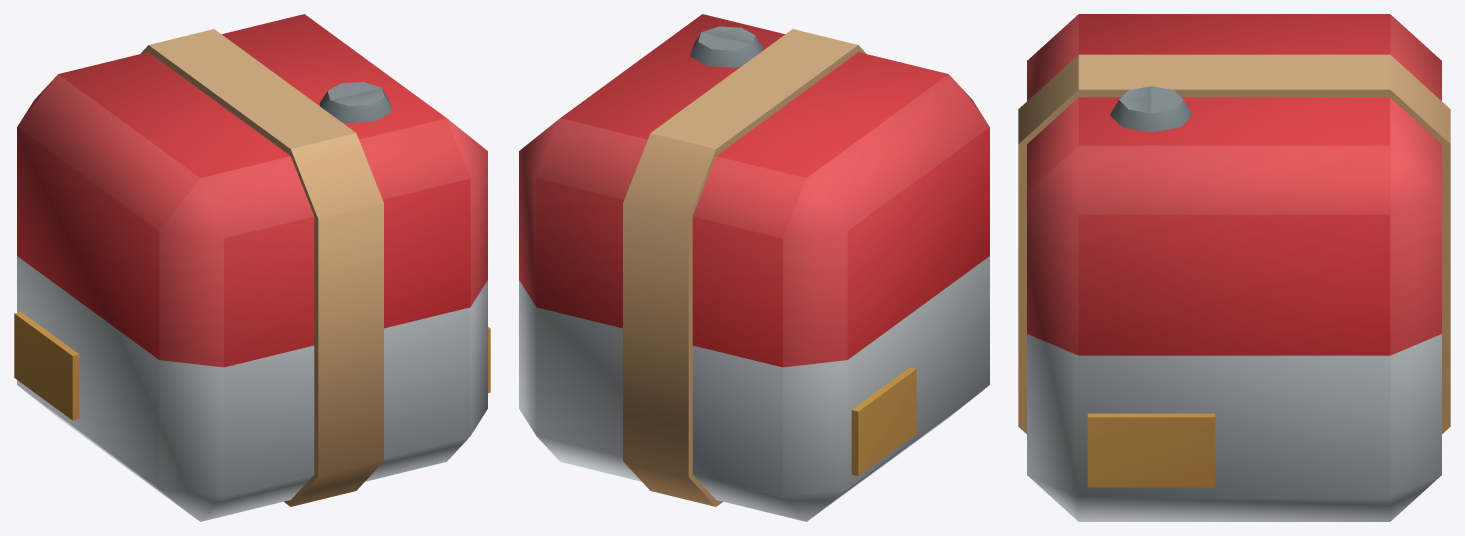
Rendered from cargo_A_packed.glb.
The picture shows the model from 3 angles, left to right: view 1: azimuth 30°, elevation 25°; view 2: azimuth 150°, elevation 25°; view 3: azimuth 270°, elevation 25°; orthographic projection. The views are drawn at different scales.
Parts seen in each view (by area): view 1: cargo_A_packed_Cube.15111; view 2: cargo_A_packed_Cube.15111; view 3: cargo_A_packed_Cube.15111.
Part boxes in pixels (box(x1,y1,x2,y2)): cargo_A_packed_Cube.15111: box(14, 14, 490, 521); cargo_A_packed_Cube.15111: box(519, 14, 989, 521); cargo_A_packed_Cube.15111: box(1018, 14, 1450, 521).
Size of the model in its own units: 0.5205 by 0.5303 by 0.5205.
1 material, 1 textured.
